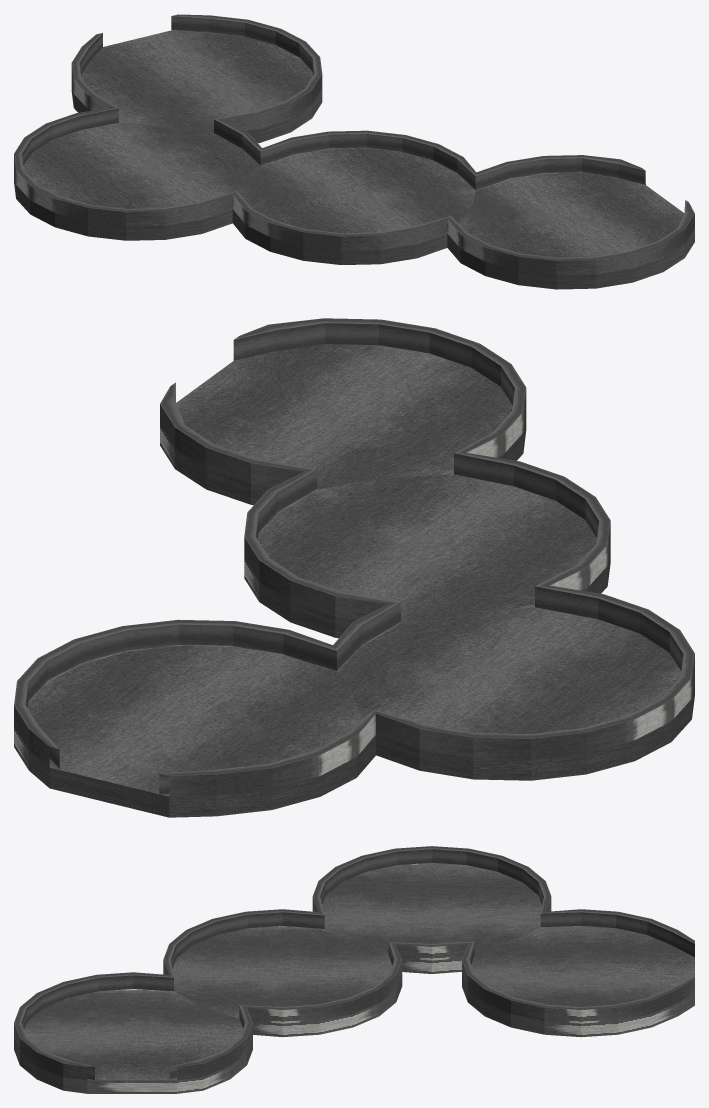
Rendered from H-Circles.obj.
The picture shows the model from 3 angles, top to bottom: view 1: azimuth 30°, elevation 25°; view 2: azimuth 150°, elevation 25°; view 3: azimuth 270°, elevation 25°; orthographic projection. The views are drawn at different scales.
Parts seen in each view (by area): view 1: polySurface14; view 2: polySurface14; view 3: polySurface14.
Part boxes in pixels (x1,y1,x2,y2): polySurface14: [14, 14, 694, 289]; polySurface14: [14, 318, 694, 817]; polySurface14: [14, 846, 694, 1093].
Bounding box in the file's own units: 2755 × 157 × 3592.
1 material, 1 textured.
